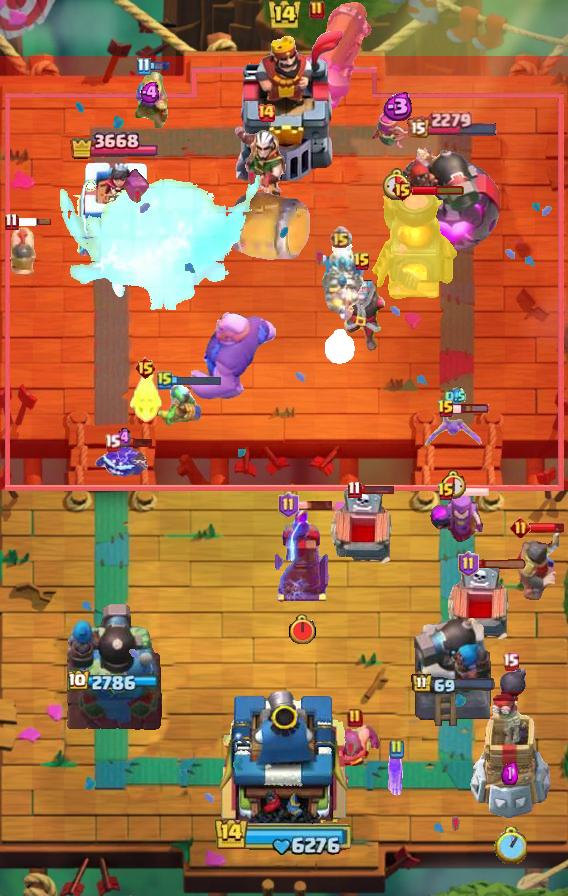balloon: (185, 310, 279, 402)
barbarian: (425, 413, 485, 451)
bat-evolution: (127, 370, 163, 424)
bomb-tower: (131, 70, 171, 128)
cannon: (370, 111, 422, 151)
clock: (214, 816, 354, 856)
dirt: (227, 190, 311, 264)
electro-spirit: (378, 92, 414, 121), (140, 82, 162, 103), (446, 386, 467, 405), (502, 762, 518, 785), (117, 427, 131, 449)
elixir: (493, 827, 526, 864), (325, 329, 355, 364), (382, 168, 410, 200), (288, 614, 316, 646), (441, 469, 469, 499)
elixir-golem-mid: (328, 486, 398, 572), (445, 562, 515, 648)
emote: (412, 184, 465, 196), (170, 374, 221, 386), (476, 558, 528, 569), (297, 499, 335, 511), (454, 403, 491, 415), (454, 486, 491, 498), (360, 484, 396, 496), (529, 522, 565, 534), (118, 437, 154, 448), (16, 217, 52, 227), (148, 61, 170, 72)
executioner: (8, 225, 40, 279)
firecracker: (517, 531, 559, 600)
furnace: (286, 0, 376, 114)
giant-snowball: (155, 383, 205, 427)
goblin: (386, 748, 406, 798)
hunter: (371, 192, 459, 302)
ice-spirit-evolution-symbol: (272, 507, 332, 603)
king-tower: (214, 684, 354, 826), (223, 31, 345, 181)
mega-knight: (38, 162, 260, 336)
mini-pekka: (312, 241, 368, 325)
monk: (328, 722, 382, 792)
mortar: (319, 274, 405, 352)
queen-tower: (69, 158, 159, 256)
rascal-girl: (429, 491, 487, 547)
selected: (70, 129, 158, 163), (407, 110, 499, 138), (67, 670, 160, 694), (412, 672, 497, 696)
skeleton-king: (232, 125, 300, 201)
skeleton-king-skill: (122, 168, 150, 204)
spear-goblin: (95, 439, 151, 479)
text: (391, 178, 414, 202), (329, 226, 352, 250), (134, 356, 157, 380), (277, 492, 298, 518), (458, 551, 479, 577), (509, 518, 531, 539), (256, 103, 276, 123), (353, 252, 371, 272), (437, 399, 455, 419), (437, 482, 455, 502), (103, 433, 121, 452), (501, 652, 518, 671), (309, 0, 325, 20), (157, 370, 173, 390), (347, 708, 363, 728), (388, 739, 404, 759), (5, 213, 20, 231), (346, 481, 361, 499), (137, 57, 151, 76)
tower-bar: (64, 601, 164, 731), (402, 136, 504, 256), (410, 611, 496, 731)
zappy: (466, 662, 553, 820)
